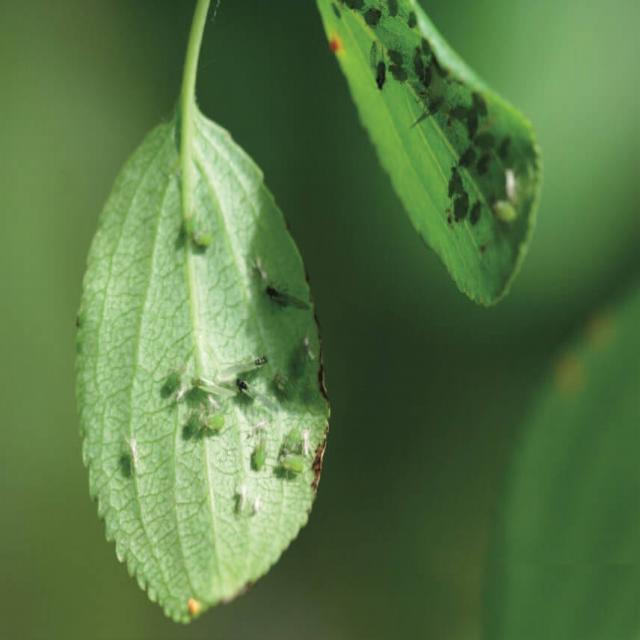Aphid-Grouped-: (161, 200, 330, 534), (371, 12, 522, 235)
Aphid-Grown-have wings-: (228, 366, 284, 421), (186, 372, 241, 408), (215, 350, 276, 382)
